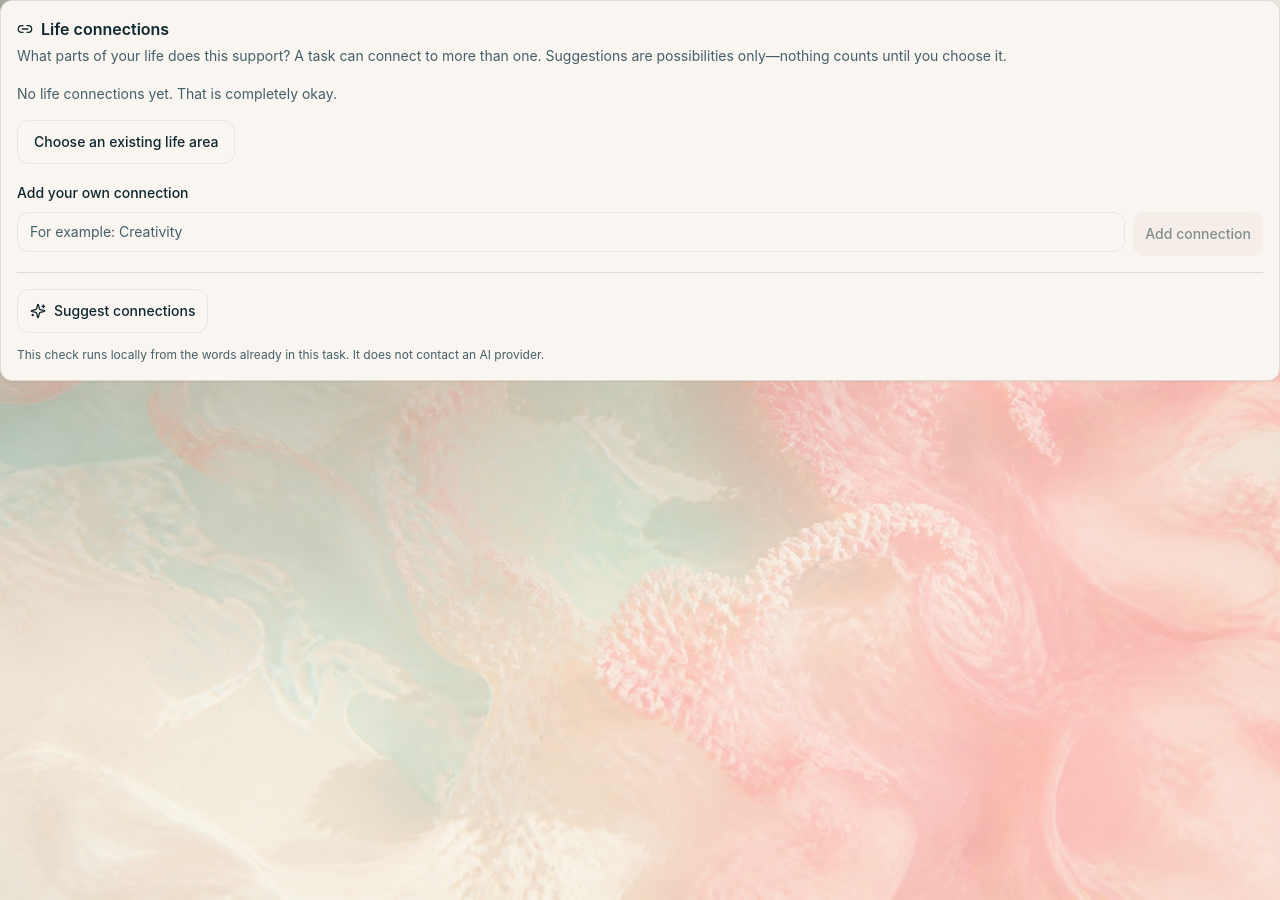
Test case: LifeConnectionsEditor › keeps local hypotheses hidden until explicitly requested
Expected: the text "Possible connection: Physical health" is not shown
What coordinates should you click on to do the following:
click the button "Suggest connections"
I would click on:
 (113, 311)
Its box is [17,289,208,333].
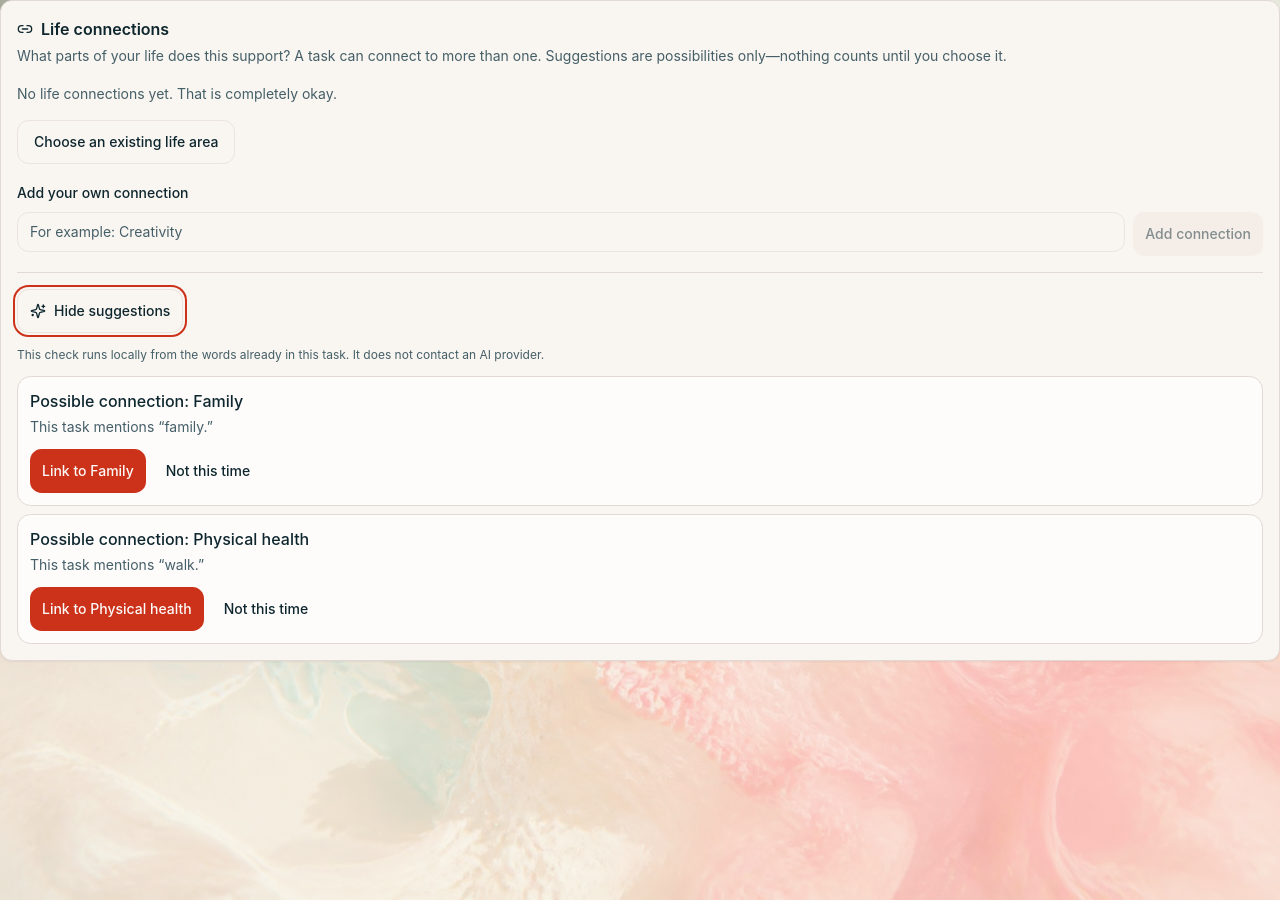
Expected: the text "Possible connection: Physical health" is shown, [30,529,309,549]
Expected: the text "Possible connection: Family" is shown, [30,391,243,411]
